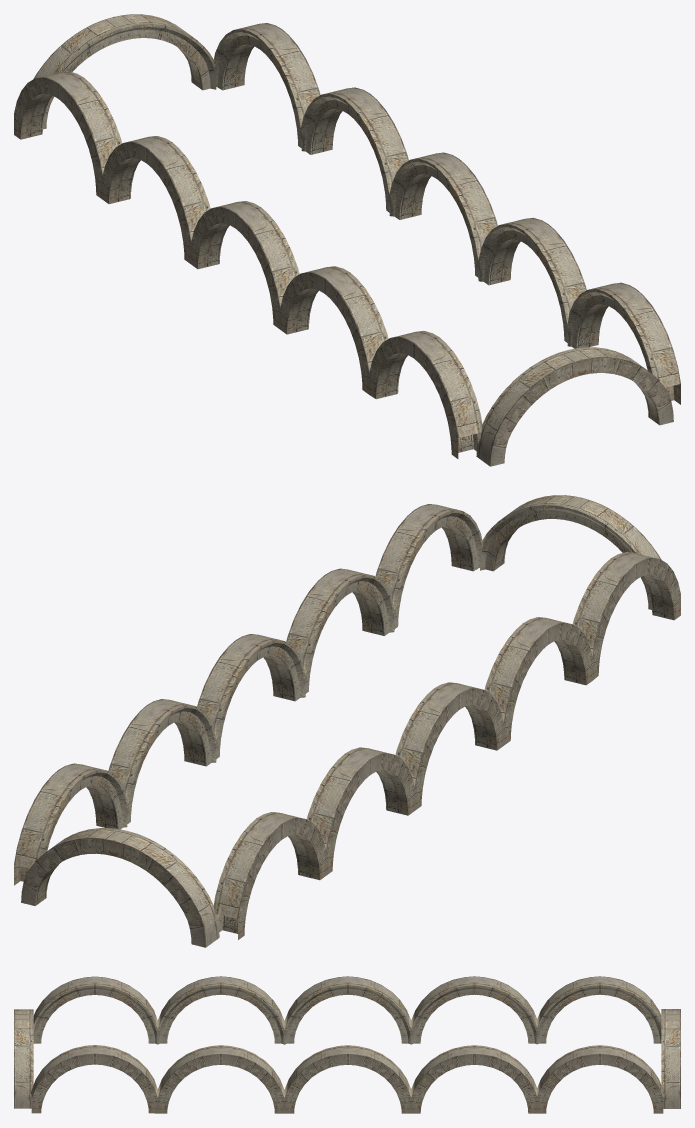
The model's file is wall.obj.
The picture shows the model from 3 angles, top to bottom: view 1: azimuth 30°, elevation 25°; view 2: azimuth 150°, elevation 25°; view 3: azimuth 270°, elevation 25°; orthographic projection. The views are drawn at different scales.
Visible parts, largest first — view 1: sponza_17; view 2: sponza_17; view 3: sponza_17.
Boxes of the visible parts, box(x1,y1,x2,y2) form: sponza_17: box(14, 14, 680, 466); sponza_17: box(14, 495, 680, 947); sponza_17: box(14, 976, 680, 1113).
Bounding box in the file's own units: 16.17 × 5.97 × 58.62.
1 material, 1 textured.
